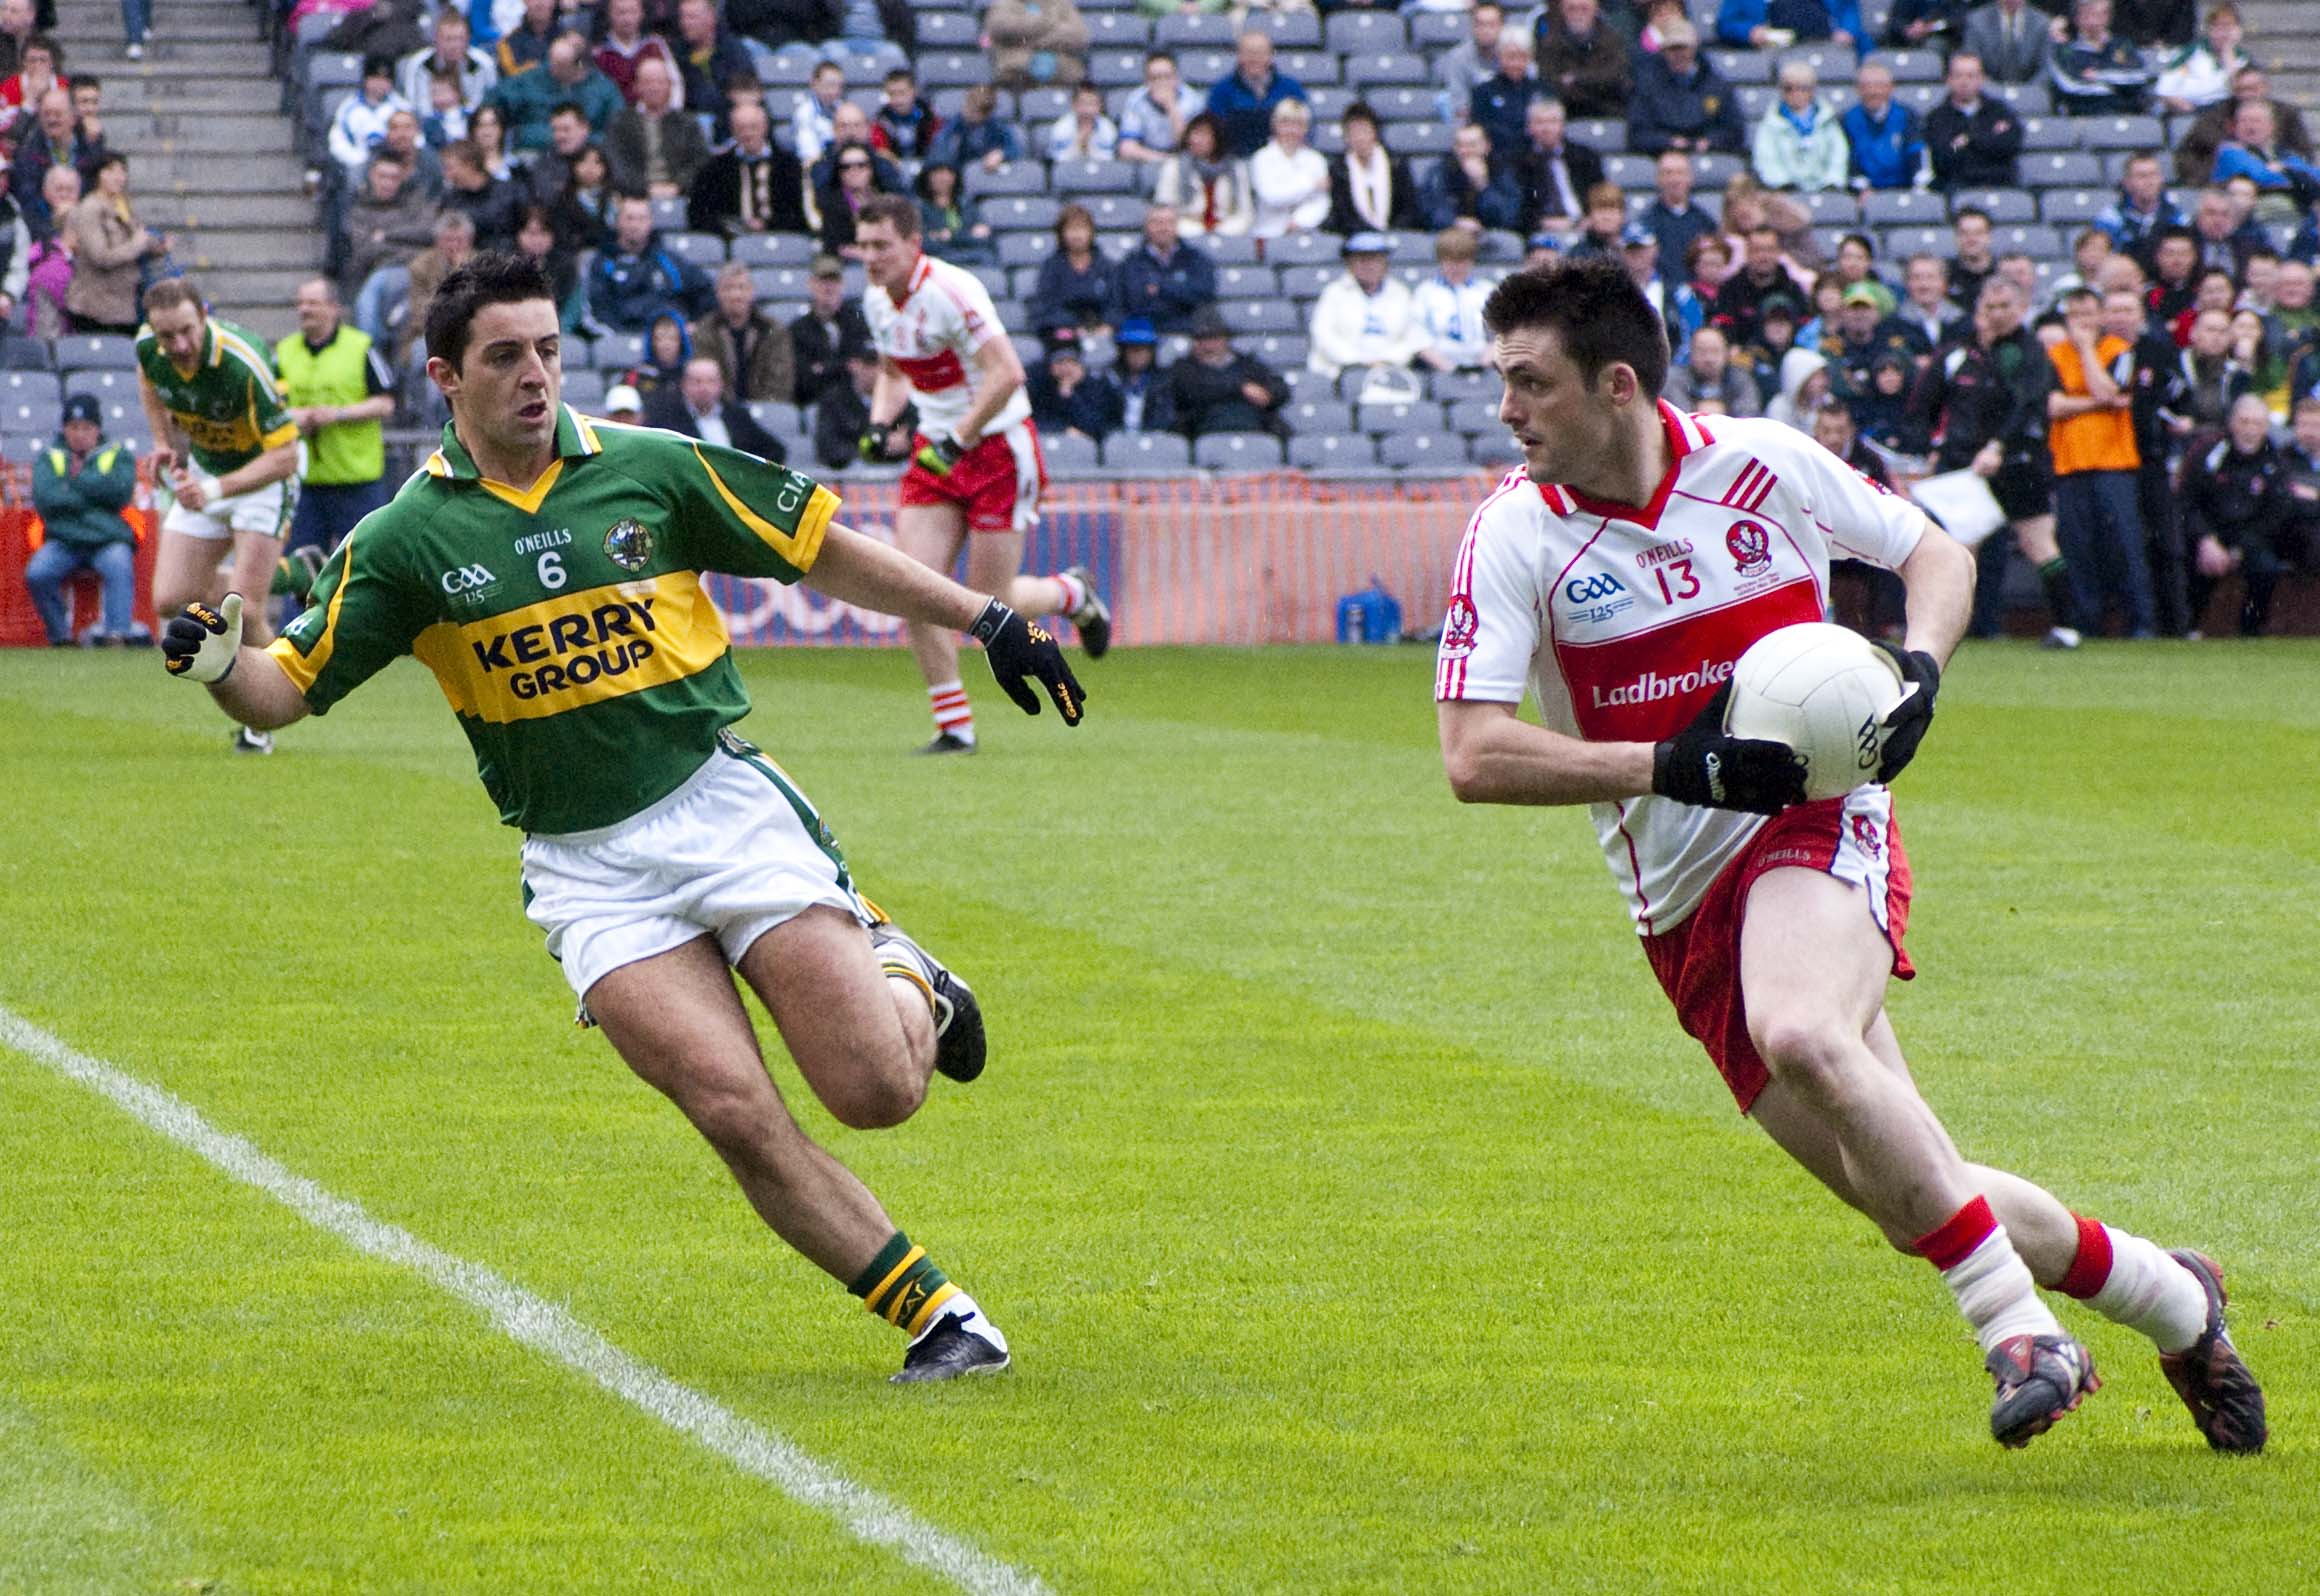ball: (1696, 623, 1902, 803)
player: (1450, 254, 2188, 1385), (298, 226, 1017, 1347), (804, 147, 1122, 724), (114, 256, 303, 676)
